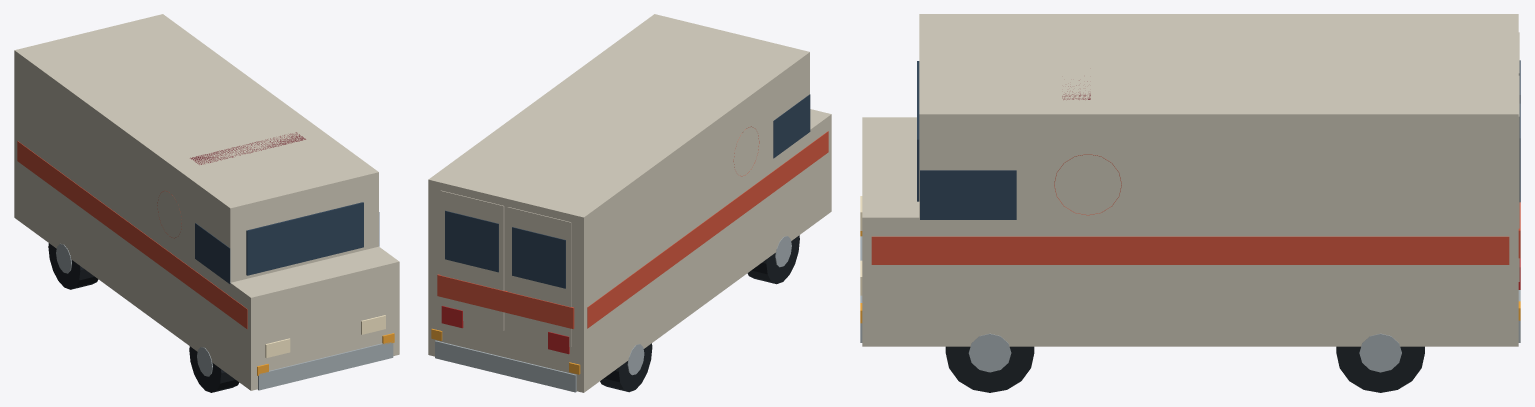
The model's file is npc_ambulance_lod1.glb.
3 renders of one model, left to right at view 1: azimuth 30°, elevation 25°; view 2: azimuth 150°, elevation 25°; view 3: azimuth 270°, elevation 25°, orthographic. The views are drawn at different scales.
Parts seen in each view (by area): view 1: high_roof, lower_shell, windshield, rescue_stripe_R, front_bumper, cab_window_R, wheel_F_R_tire, wheel_R_R_tire, beacon_bar, headlight_R, headlight_L, wheel_R_R_hub (+1 smaller); view 2: high_roof, lower_shell, rescue_stripe_R, rear_door_L, rear_door_R, rear_stripe, rear_window_L, rear_window_R, rear_bumper, cab_window_R, wheel_R_R_tire, wheel_F_R_tire (+4 smaller); view 3: high_roof, lower_shell, rescue_stripe_L, cab_window_L, wheel_F_L_tire, wheel_R_L_tire, wheel_F_L_hub, wheel_R_L_hub.
Boxes of the visible parts, <box> form: high_roof: <box>14,14,378,282</box>; lower_shell: <box>14,125,399,390</box>; windshield: <box>246,202,363,275</box>; rescue_stripe_R: <box>17,141,247,329</box>; front_bumper: <box>258,341,393,390</box>; cab_window_R: <box>195,223,230,283</box>; wheel_F_R_tire: <box>189,346,239,392</box>; wheel_R_R_tire: <box>48,243,98,289</box>; beacon_bar: <box>190,132,305,164</box>; headlight_R: <box>265,338,290,358</box>; headlight_L: <box>361,315,385,334</box>; wheel_R_R_hub: <box>56,243,71,273</box>; high_roof: <box>428,14,809,295</box>; lower_shell: <box>428,109,831,392</box>; rescue_stripe_R: <box>587,131,828,328</box>; rear_door_L: <box>440,190,504,330</box>; rear_door_R: <box>507,207,571,347</box>; rear_stripe: <box>437,274,574,328</box>; rear_window_L: <box>445,210,498,272</box>; rear_window_R: <box>512,227,565,288</box>; rear_bumper: <box>435,340,576,392</box>; cab_window_R: <box>773,94,810,158</box>; wheel_R_R_tire: <box>600,343,652,392</box>; wheel_F_R_tire: <box>747,235,799,284</box>; high_roof: <box>919,14,1518,217</box>; lower_shell: <box>862,117,1518,346</box>; rescue_stripe_L: <box>871,236,1509,264</box>; cab_window_L: <box>920,170,1016,219</box>; wheel_F_L_tire: <box>945,346,1034,392</box>; wheel_R_L_tire: <box>1336,346,1424,392</box>; wheel_F_L_hub: <box>968,333,1011,372</box>; wheel_R_L_hub: <box>1359,333,1401,372</box>.
Bounding box in the file's own units: 2.1 × 2.7 × 5.8.
